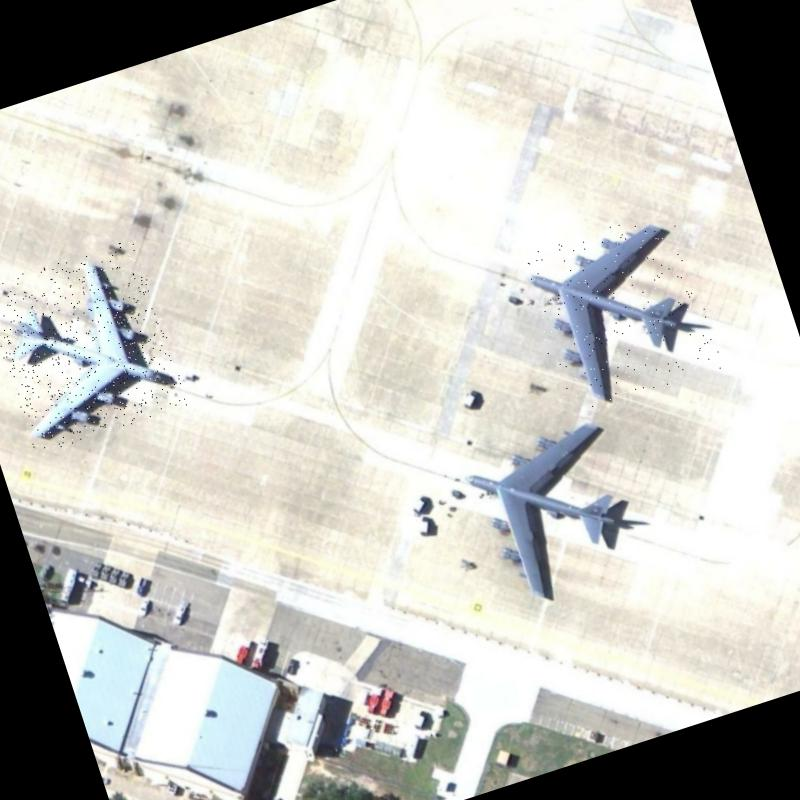A8: (516, 206, 724, 420), (0, 237, 189, 456), (458, 408, 656, 613)
